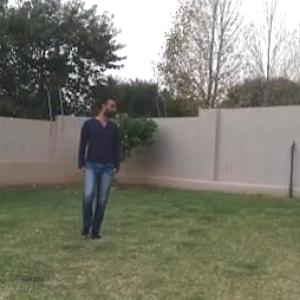follow: (80, 93, 116, 234)
